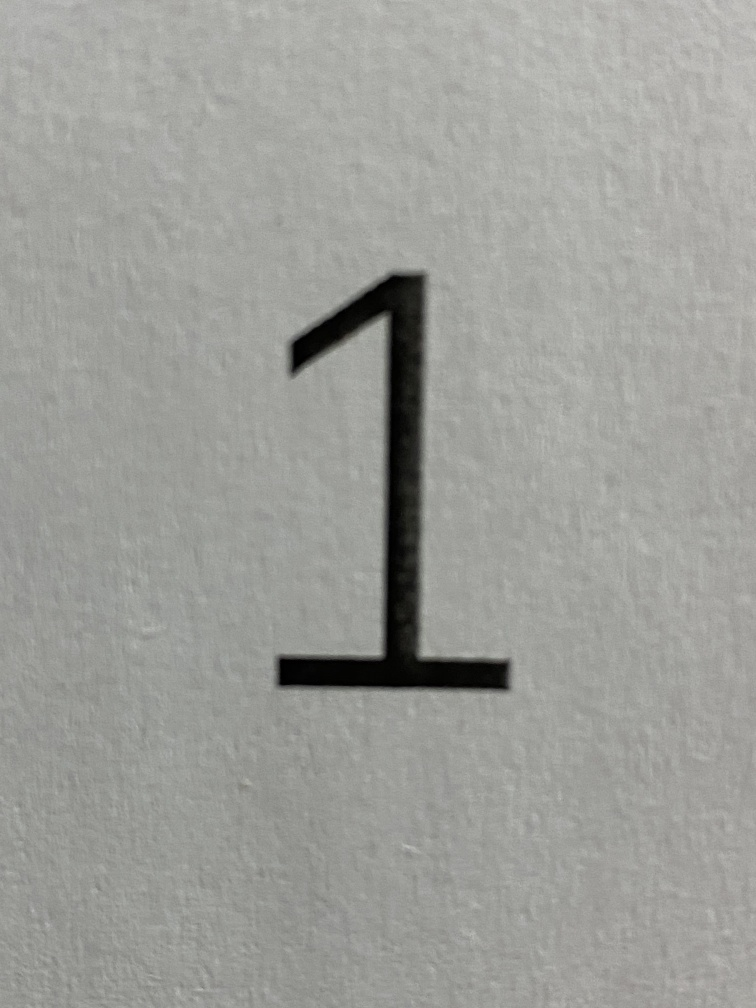one: (244, 247, 542, 741)
